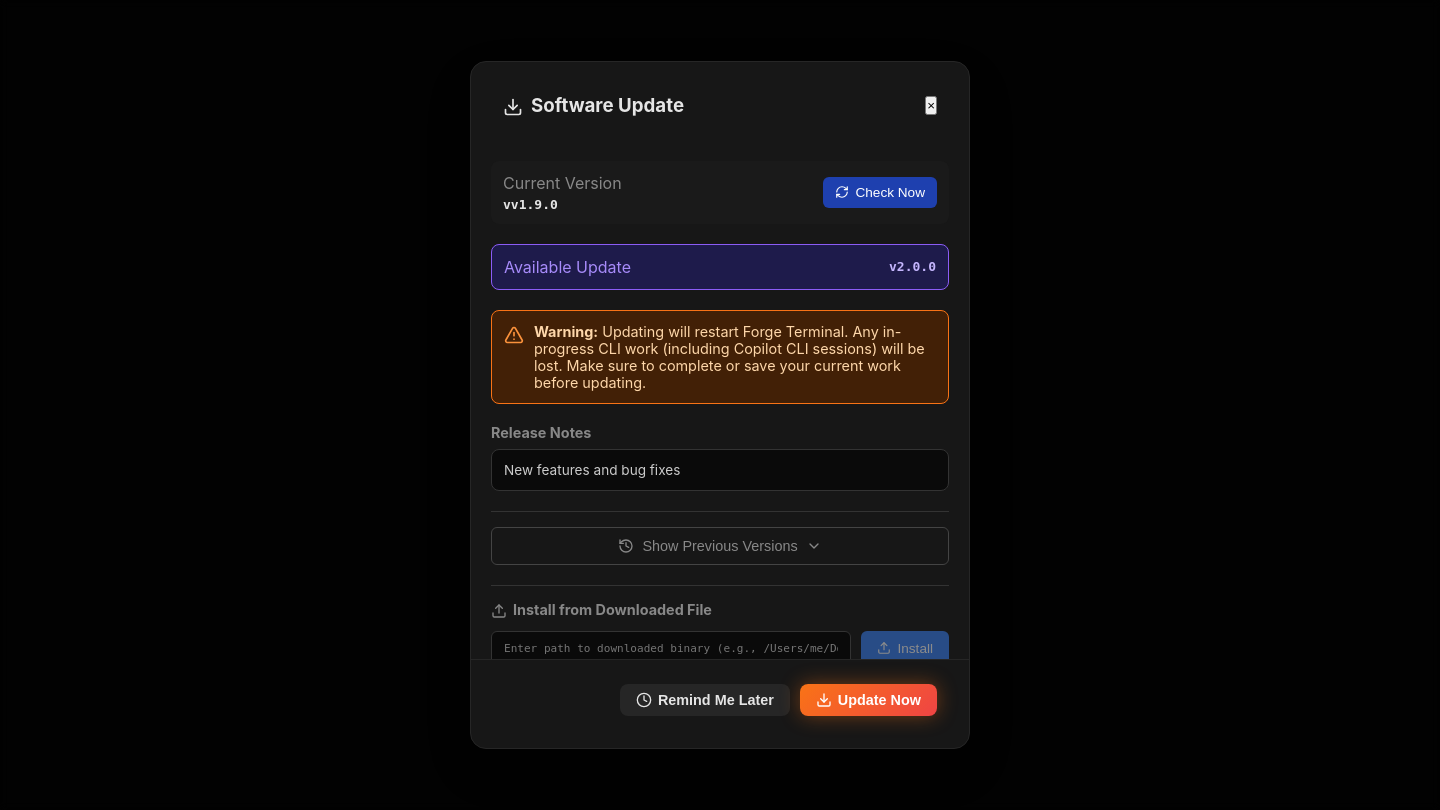
Test: UpdateModal › Error Handling › should display error message when update fails
Click the button "Update Now" at (868, 700), box x1=800 y1=684 x2=937 y2=716
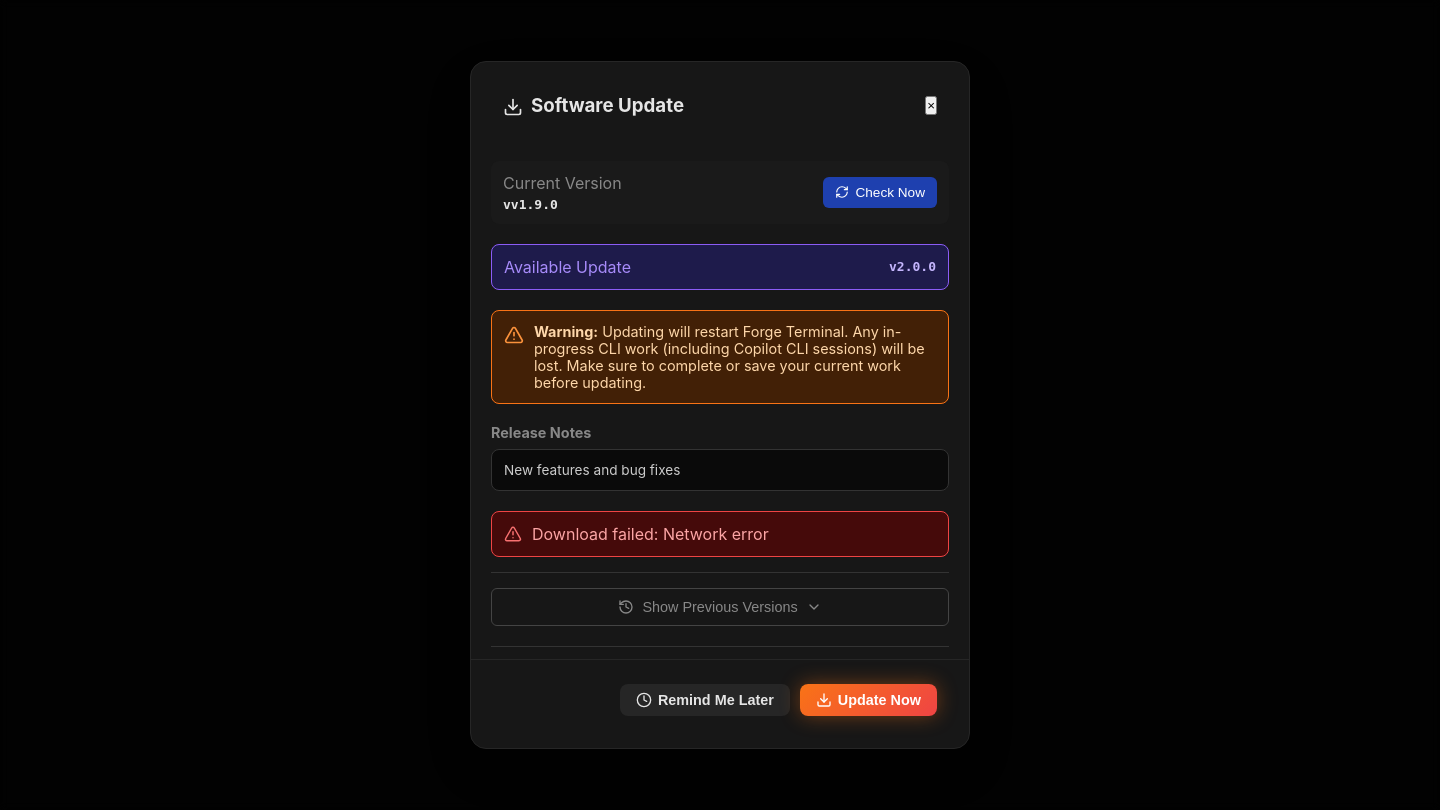
Result: the text "Download failed: Network error" is shown at x1=532 y1=524 x2=769 y2=544
